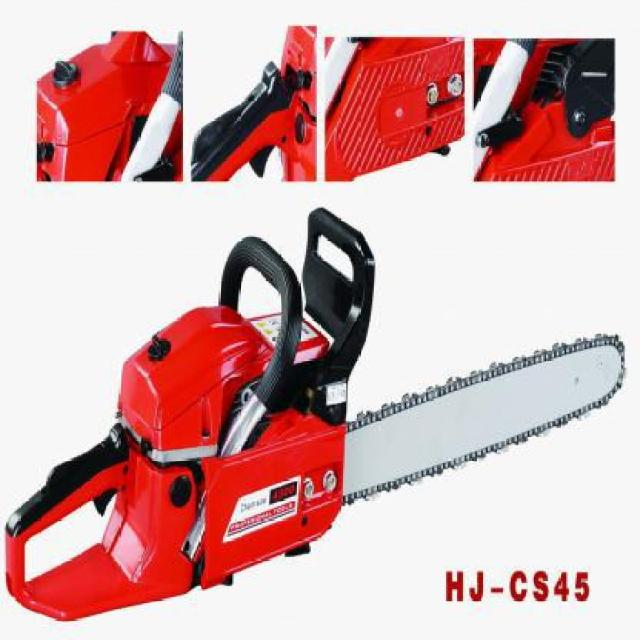Chainsaw: (11, 206, 635, 614)
